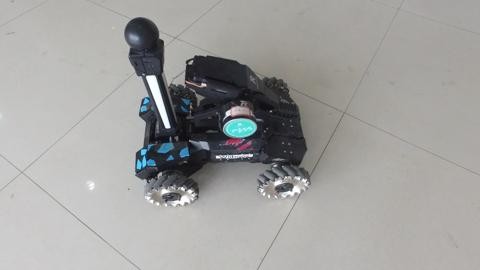chariot: (93, 20, 313, 214)
